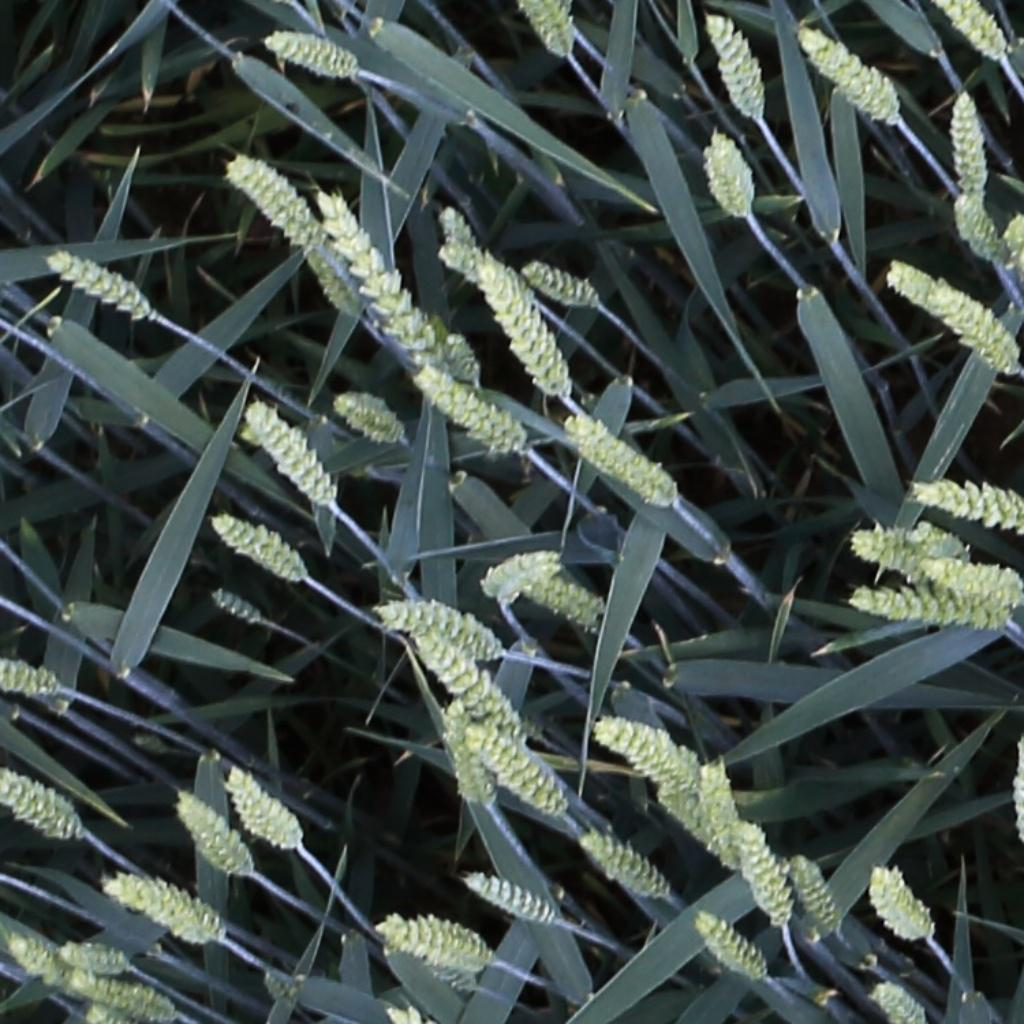0-0: (318, 187, 445, 371), (458, 248, 572, 402), (887, 260, 1024, 377), (405, 633, 531, 745), (563, 416, 680, 513), (798, 28, 904, 129), (240, 398, 334, 506), (413, 367, 529, 454), (849, 582, 1011, 641), (223, 158, 326, 248), (462, 726, 563, 817), (102, 872, 231, 941), (848, 526, 976, 584), (221, 768, 306, 855), (593, 716, 699, 785), (374, 912, 500, 970), (47, 248, 151, 318), (207, 512, 310, 581), (172, 793, 251, 882), (700, 10, 765, 118), (655, 786, 738, 869), (1, 763, 85, 844), (914, 480, 1024, 539), (729, 823, 790, 929), (375, 603, 498, 655), (578, 832, 669, 901), (517, 567, 606, 635), (65, 972, 178, 1024), (461, 873, 560, 927), (300, 234, 360, 323), (921, 561, 1023, 612), (478, 547, 563, 608), (439, 696, 484, 811), (438, 244, 524, 304), (866, 865, 931, 943), (692, 912, 765, 981), (704, 128, 755, 223), (260, 31, 359, 78), (786, 851, 839, 937), (332, 391, 410, 449), (951, 83, 989, 201), (936, 1, 1007, 62), (4, 933, 70, 991), (953, 187, 1002, 263), (518, 262, 598, 305), (699, 757, 737, 843), (521, 0, 572, 61), (435, 197, 479, 260), (438, 326, 480, 387), (0, 656, 65, 695), (56, 942, 134, 972), (207, 589, 263, 625), (871, 984, 924, 1022)
